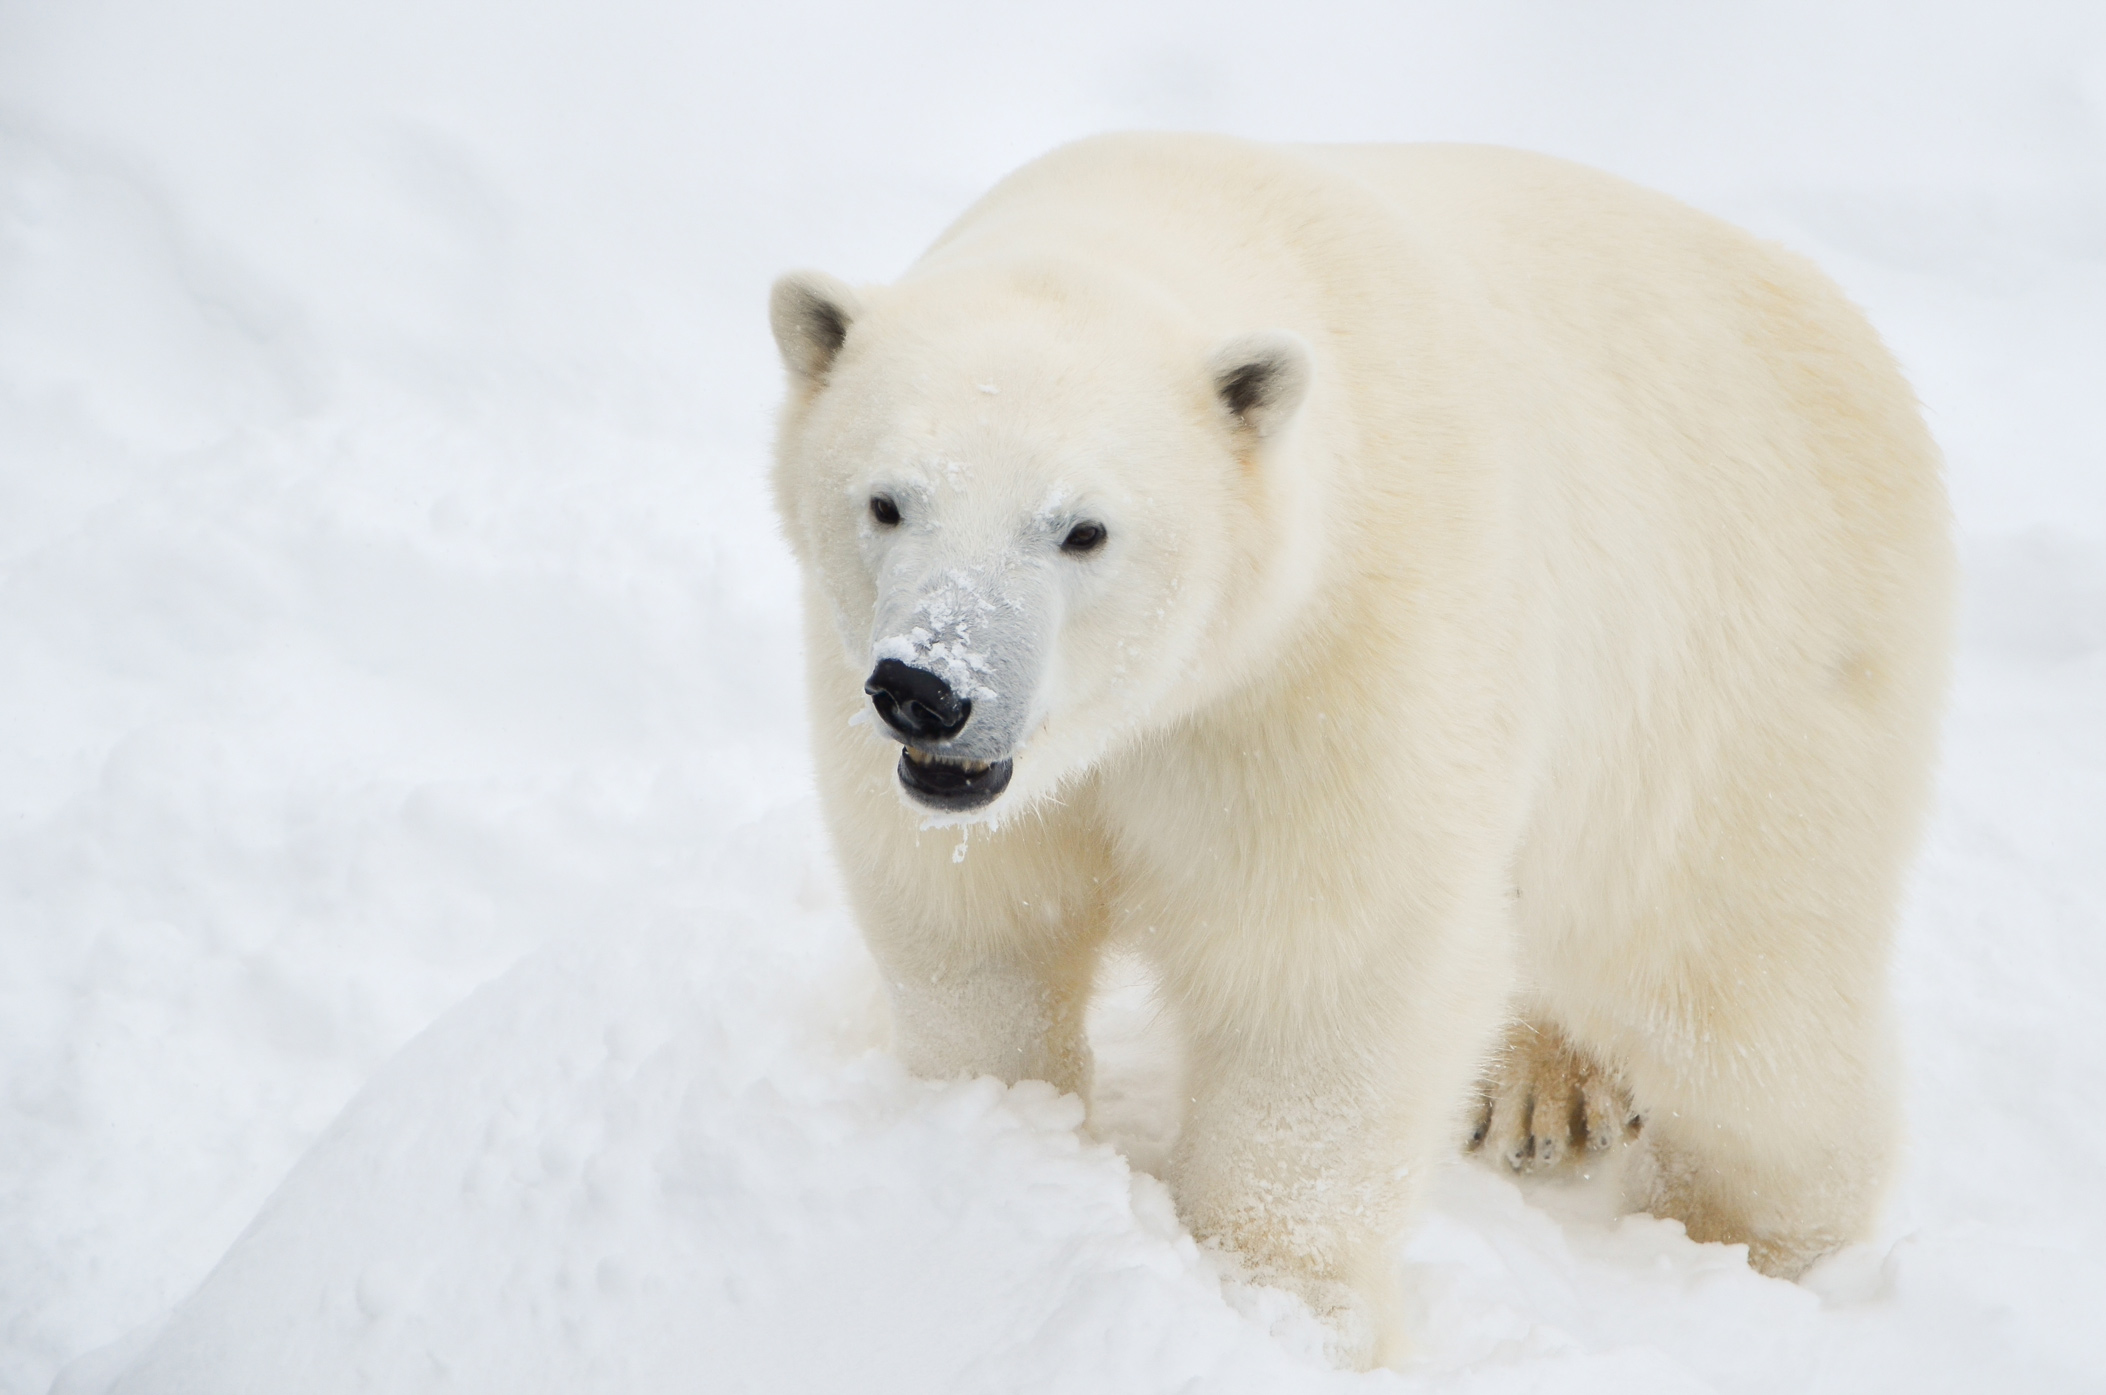Polar Bear: (683, 70, 2042, 1252)
